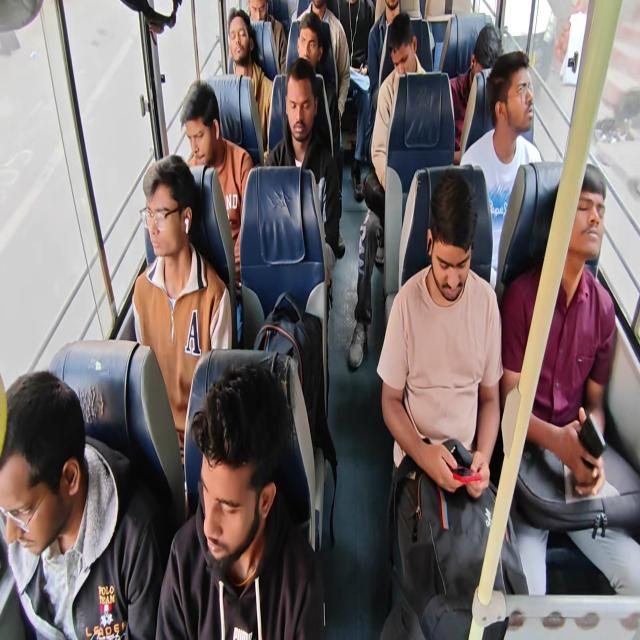person: (0, 369, 89, 568), (196, 379, 282, 569), (428, 192, 479, 314), (557, 167, 613, 271), (499, 53, 543, 146), (149, 170, 193, 262), (281, 72, 322, 149), (178, 92, 219, 161), (469, 22, 510, 84), (388, 22, 427, 84), (298, 26, 327, 81), (225, 13, 252, 68), (244, 0, 266, 27), (293, 0, 325, 14), (375, 0, 398, 18)
